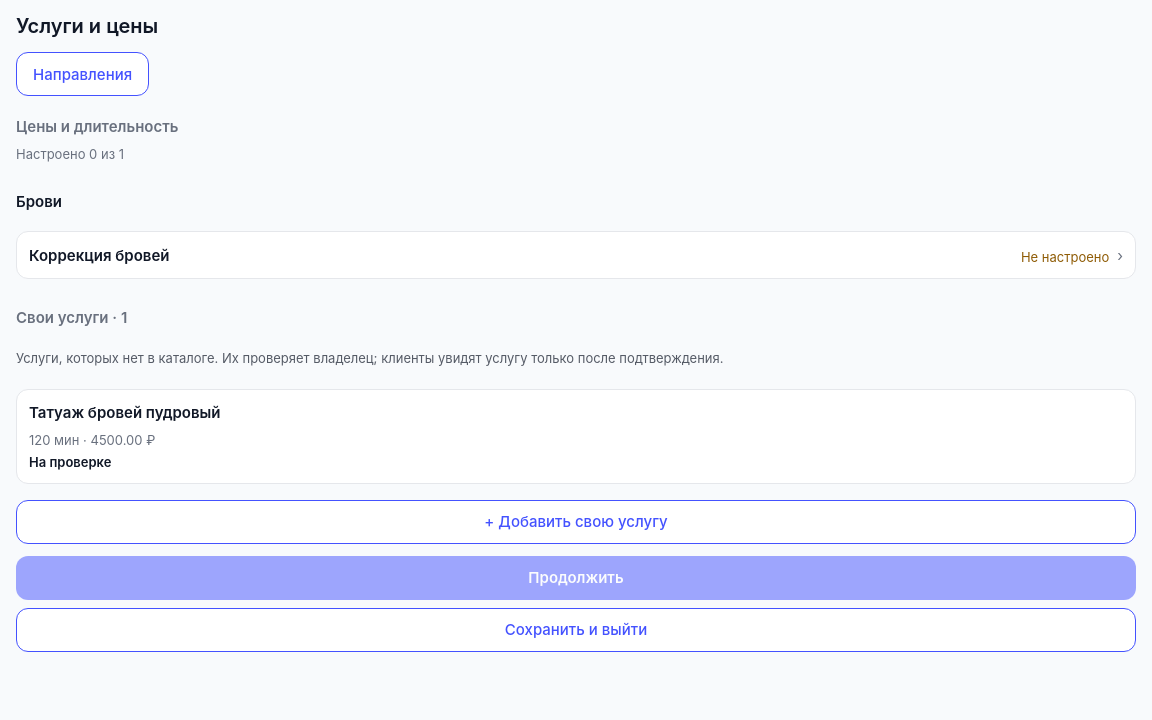
Test: MasterServicesScreen — экран 04 «Цены и длительность» (DRF-1810) › S7: the sheet has exactly two fields and saves through PUT, state from the response
Click the button "Коррекция бровей Не настроено ›". click: (99, 255)
box: [16,231,1136,279]
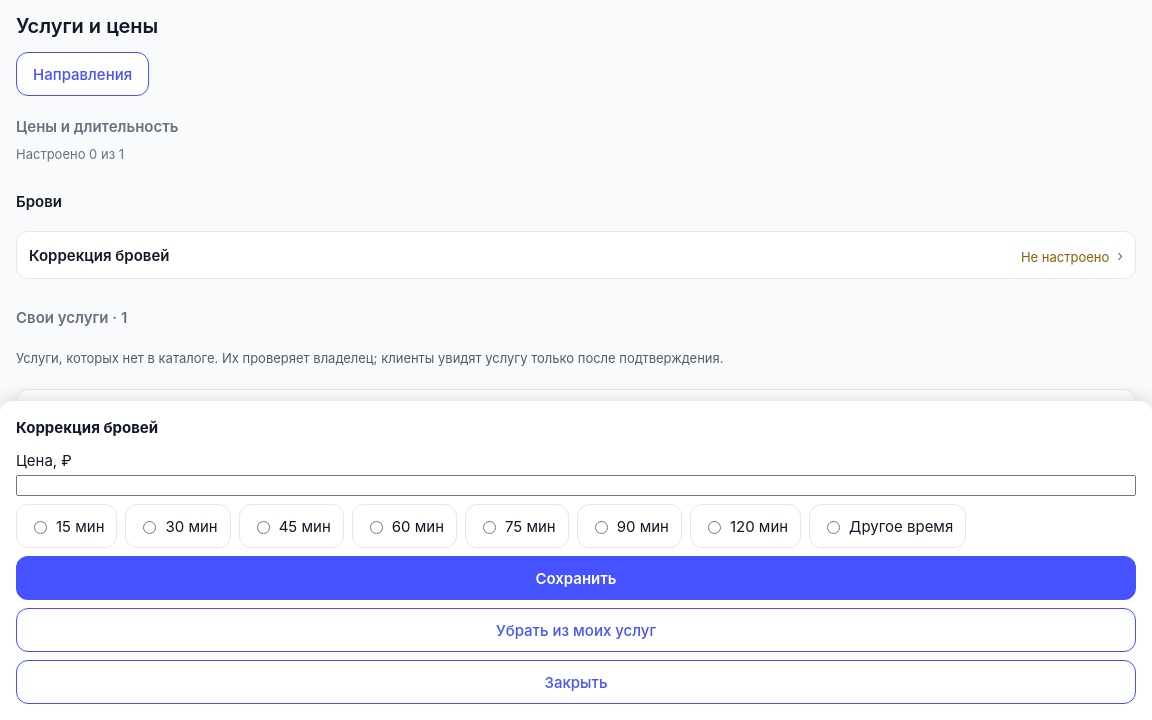
Check: the field labelled "Цена, ₽" is shown
Check: the element named "Длительность" is shown, box [16,504,966,548]
Check: the number of fields is 1
Type "1800" into the field labelled "Цена, ₽". click: (576, 486)
box: [16,475,1136,496]
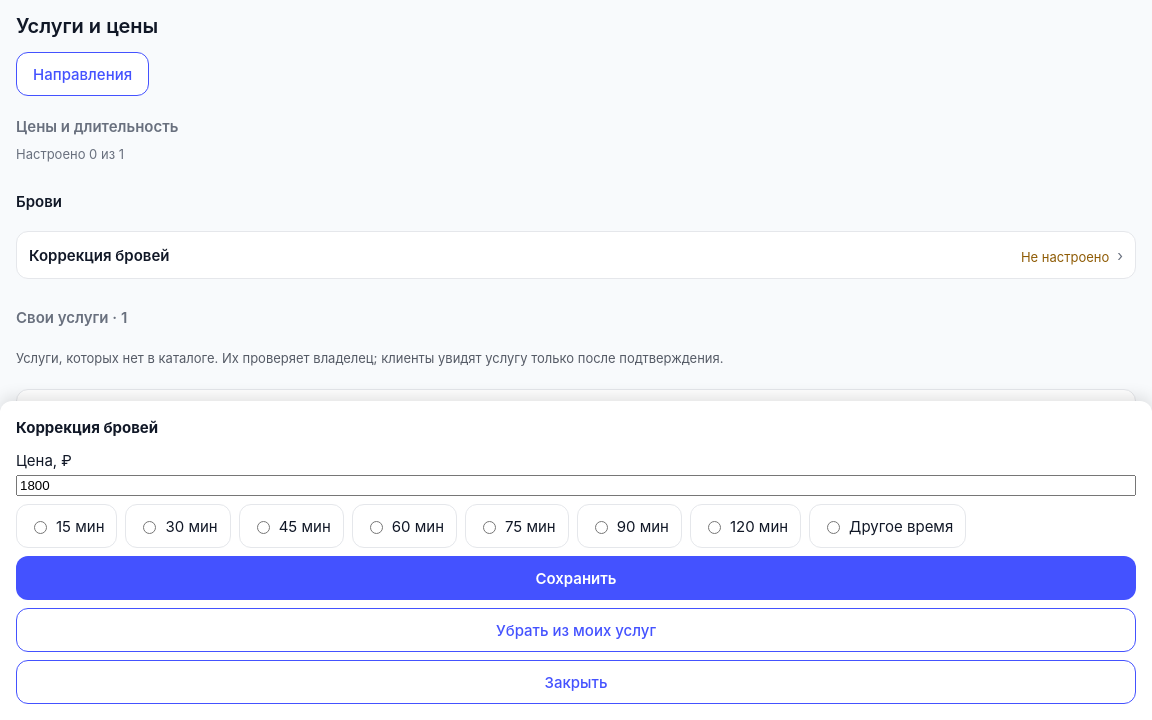
Click the radio button labelled "45 мин". click: (263, 528)
box: [257,521,270,534]
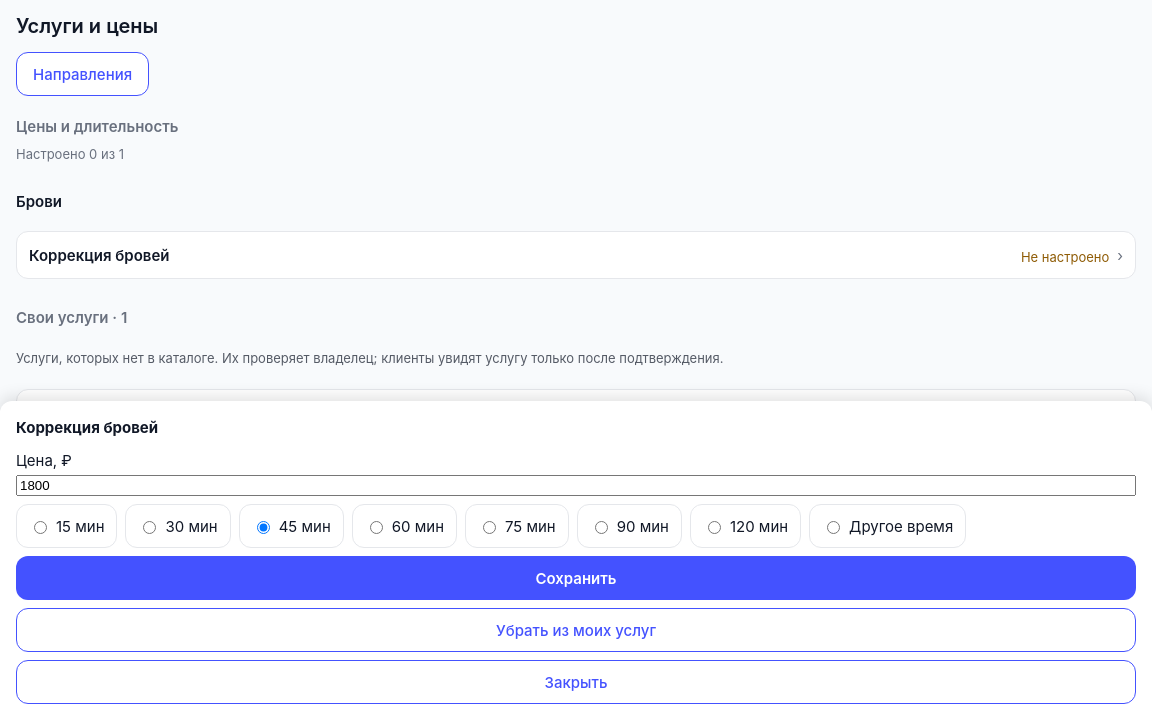
Click the button "Сохранить". click: (576, 578)
box: [16,556,1136,600]
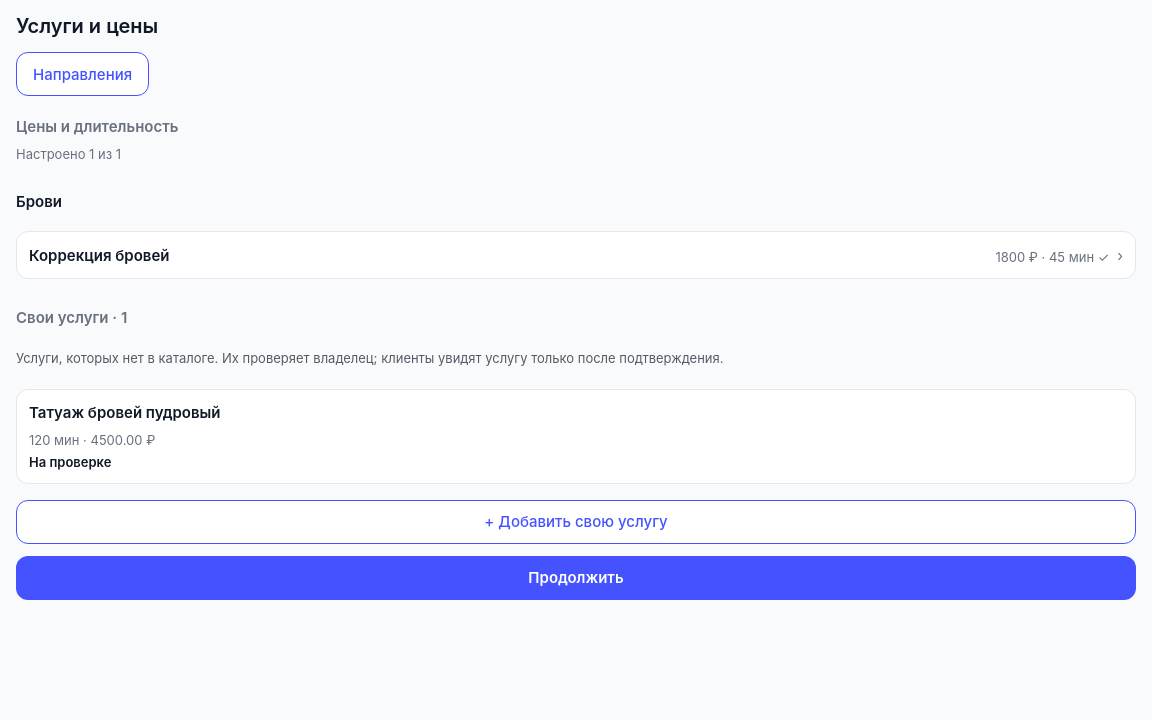
Check: the text "Настроено 1 из 1" is shown, box [16,145,121,163]
Check: the dialog is gone
